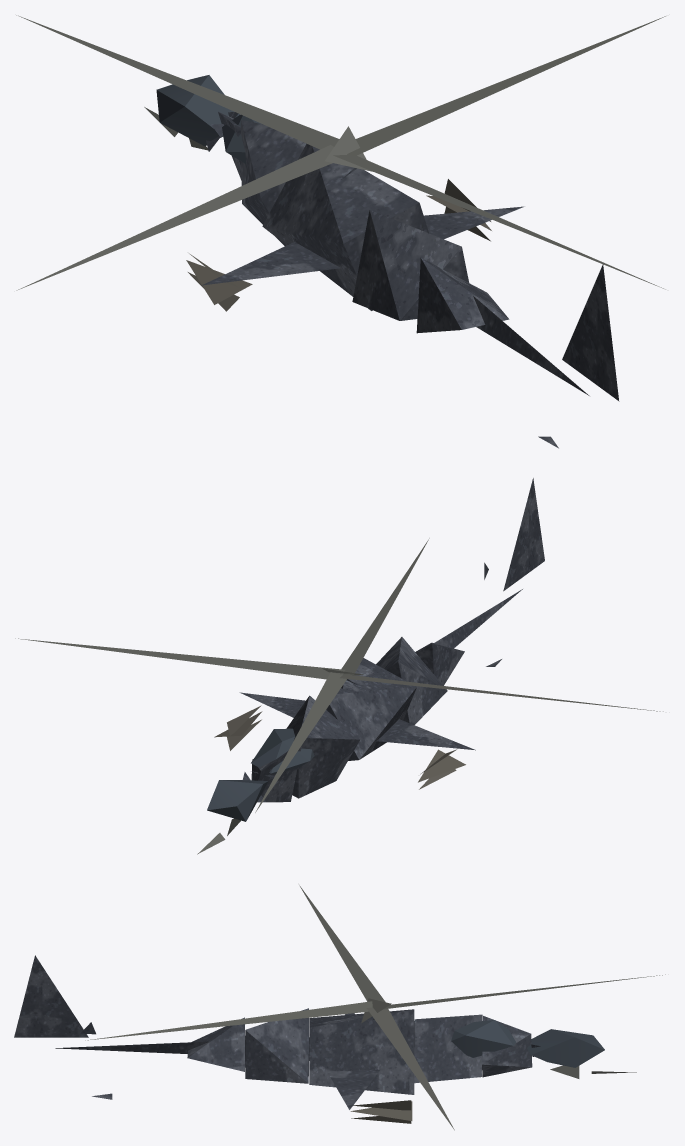
File: hel_e3_us_attack_LOD2.glb
The picture shows the model from 3 angles, top to bottom: view 1: azimuth 30°, elevation 25°; view 2: azimuth 150°, elevation 25°; view 3: azimuth 270°, elevation 25°; orthographic projection. The views are drawn at different scales.
Parts seen in each view (by area): view 1: hel_e3_us_attack_LOD2_body, hel_e3_us_attack_LOD2_gun, hel_e3_us_attack_LOD2_glass, hel_e3_us_attack_LOD2_deck; view 2: hel_e3_us_attack_LOD2_body, hel_e3_us_attack_LOD2_gun, hel_e3_us_attack_LOD2_glass, hel_e3_us_attack_LOD2_deck; view 3: hel_e3_us_attack_LOD2_body, hel_e3_us_attack_LOD2_gun, hel_e3_us_attack_LOD2_glass, hel_e3_us_attack_LOD2_deck.
Boxes of the visible parts, left/top/right/bottom form: hel_e3_us_attack_LOD2_body: left=202, top=112, right=619, bottom=448; hel_e3_us_attack_LOD2_gun: left=16, top=15, right=665, bottom=290; hel_e3_us_attack_LOD2_glass: left=156, top=75, right=262, bottom=163; hel_e3_us_attack_LOD2_deck: left=186, top=179, right=491, bottom=311; hel_e3_us_attack_LOD2_body: left=239, top=478, right=544, bottom=802; hel_e3_us_attack_LOD2_gun: left=15, top=538, right=663, bottom=854; hel_e3_us_attack_LOD2_glass: left=207, top=728, right=314, bottom=821; hel_e3_us_attack_LOD2_deck: left=214, top=705, right=465, bottom=789; hel_e3_us_attack_LOD2_body: left=14, top=955, right=540, bottom=1109; hel_e3_us_attack_LOD2_gun: left=85, top=885, right=665, bottom=1130; hel_e3_us_attack_LOD2_glass: left=451, top=1020, right=604, bottom=1067; hel_e3_us_attack_LOD2_deck: left=350, top=1100, right=412, bottom=1123.
Bounding box in the file's own units: 14.11 × 3.77 × 15.75.
4 materials, 1 textured.
